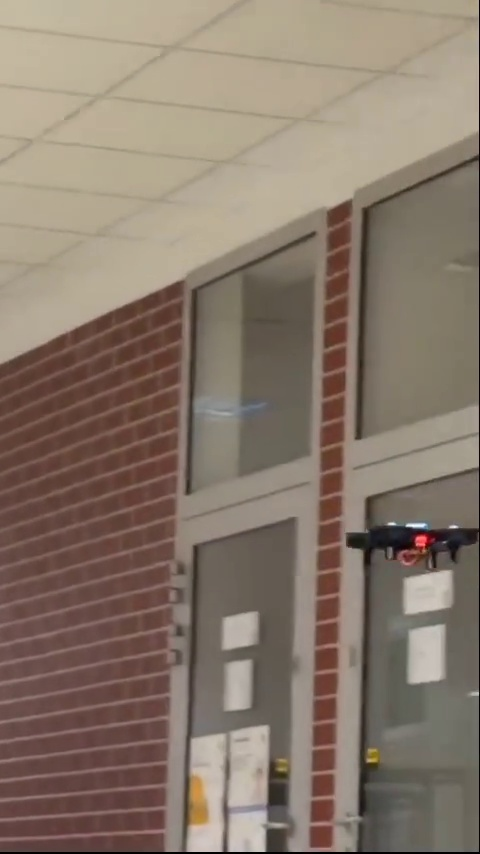drone: (348, 523, 478, 569)
